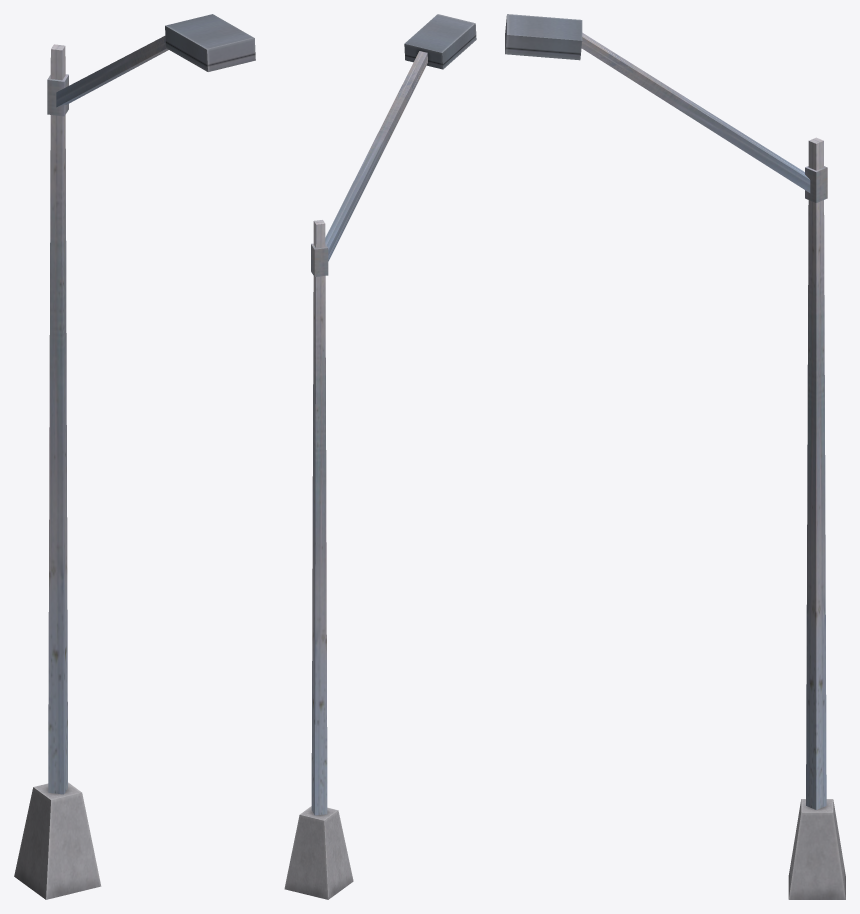
The model's file is streetlight_a.FBX.
The picture shows the model from 3 angles, left to right: view 1: azimuth 30°, elevation 25°; view 2: azimuth 150°, elevation 25°; view 3: azimuth 270°, elevation 25°; orthographic projection. The views are drawn at different scales.
Visible parts, largest first — view 1: prop_streetlightA_LOD0; view 2: prop_streetlightA_LOD0; view 3: prop_streetlightA_LOD0.
Boxes of the visible parts, <box> form: prop_streetlightA_LOD0: <box>14,14,255,899</box>; prop_streetlightA_LOD0: <box>284,14,476,899</box>; prop_streetlightA_LOD0: <box>505,14,845,899</box>.
Size of what is drawn, in the model's own units: 0.5357 by 8.93 by 3.19.
